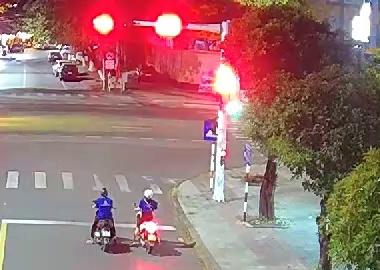red_light: (88, 10, 118, 38), (153, 12, 183, 39)
stop_line: (3, 219, 175, 230)
